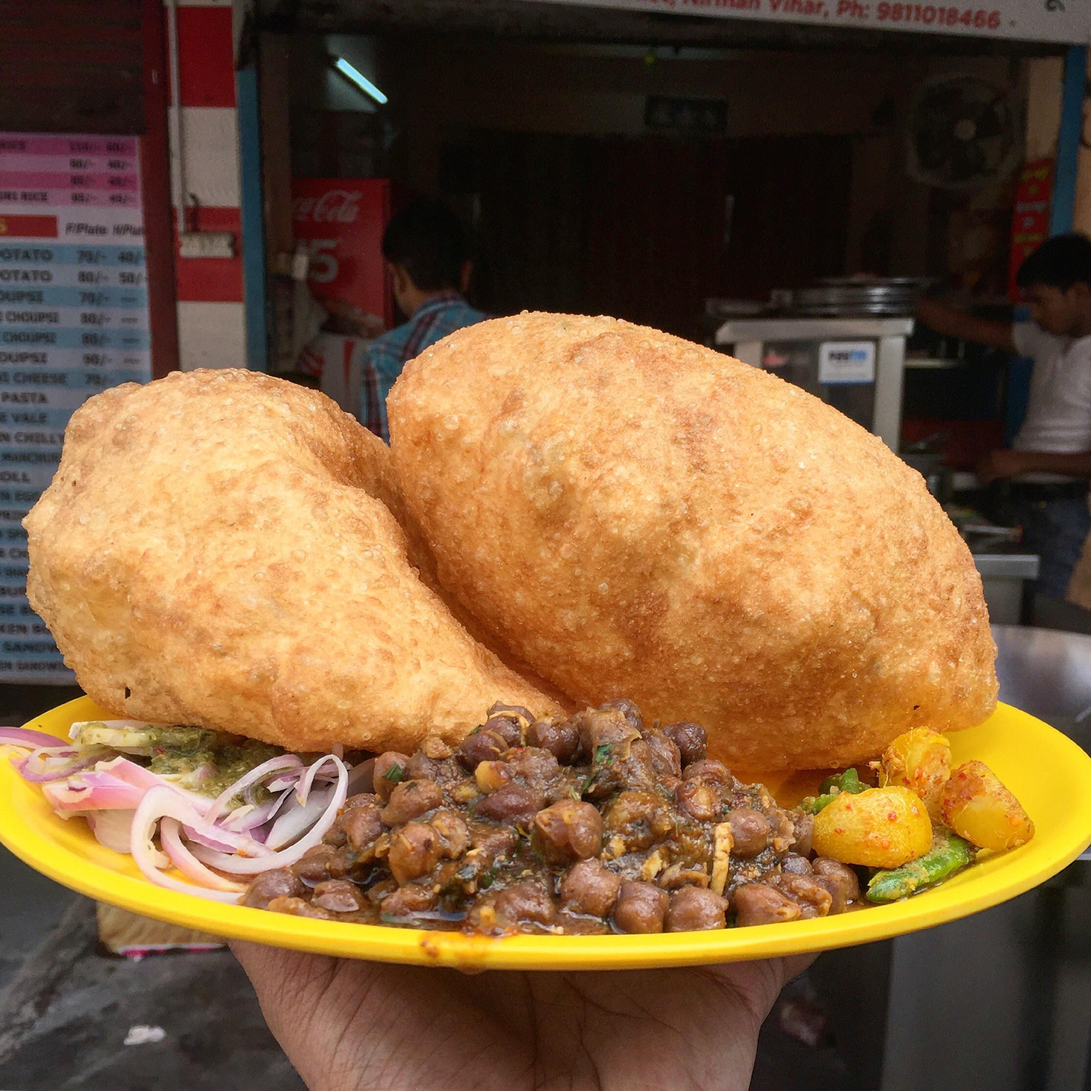Bhatura: (386, 308, 1000, 774), (26, 367, 577, 760)
Chole: (245, 704, 849, 938)
